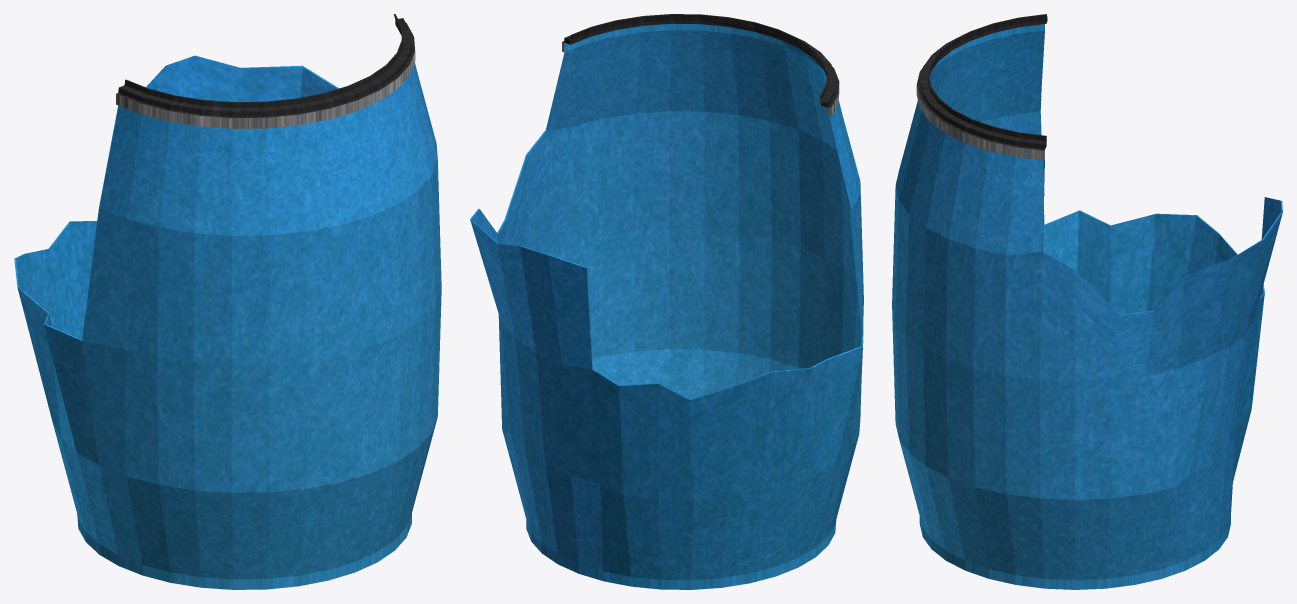
File: barrel6.fbx
3 views of the same model, side by side, from view 1: azimuth 30°, elevation 25°; view 2: azimuth 150°, elevation 25°; view 3: azimuth 270°, elevation 25° (orthographic). The views are drawn at different scales.
Visible parts, largest first — view 1: Cylinder.005; view 2: Cylinder.005; view 3: Cylinder.005.
Part boxes in pixels (x1=…): Cylinder.005: x1=14, y1=14, x2=441, y2=589; Cylinder.005: x1=470, y1=14, x2=863, y2=589; Cylinder.005: x1=892, y1=14, x2=1282, y2=589.
Bounding box in the file's own units: 366 × 458 × 361.
